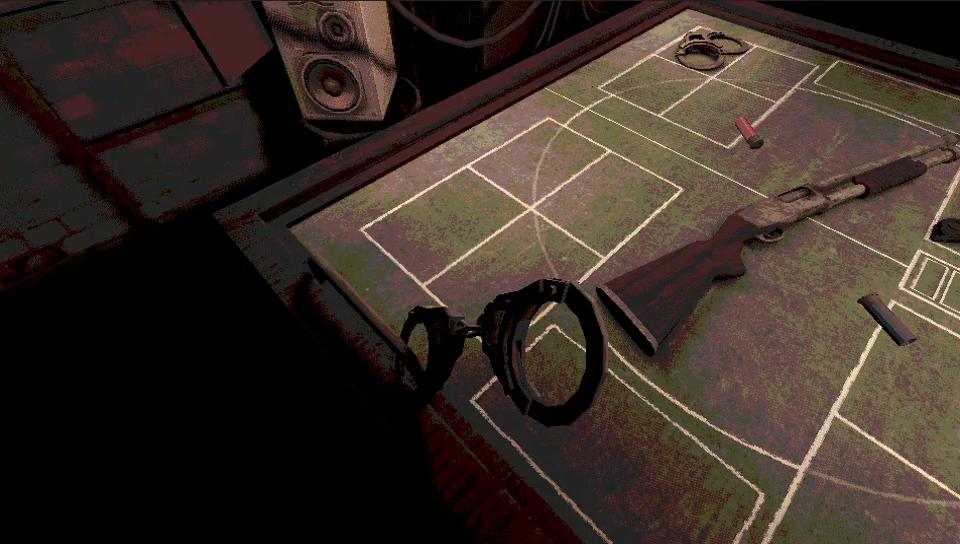ally: (295, 85, 959, 543)
emptyspace: (765, 414, 959, 543), (837, 301, 959, 496), (359, 162, 531, 286), (425, 213, 599, 316), (532, 148, 679, 257), (474, 116, 612, 205), (659, 80, 773, 146), (600, 54, 709, 114), (719, 45, 820, 101)
enemyspace: (556, 4, 959, 285)
handcuff: (599, 131, 959, 349), (675, 26, 740, 70)
